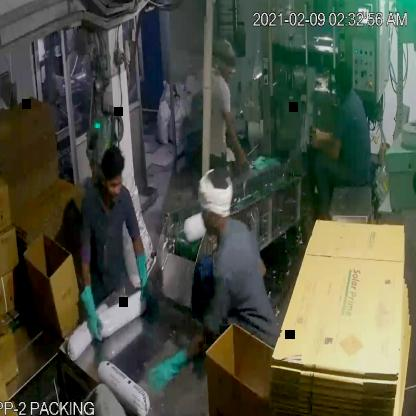glove: (141, 347, 204, 405), (77, 274, 111, 350), (127, 246, 156, 296)
no_glove: (300, 110, 352, 166), (218, 101, 254, 171)
